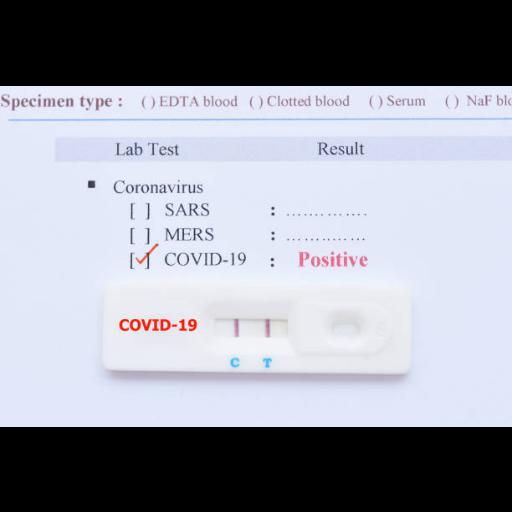Pos: (108, 282, 410, 374)
